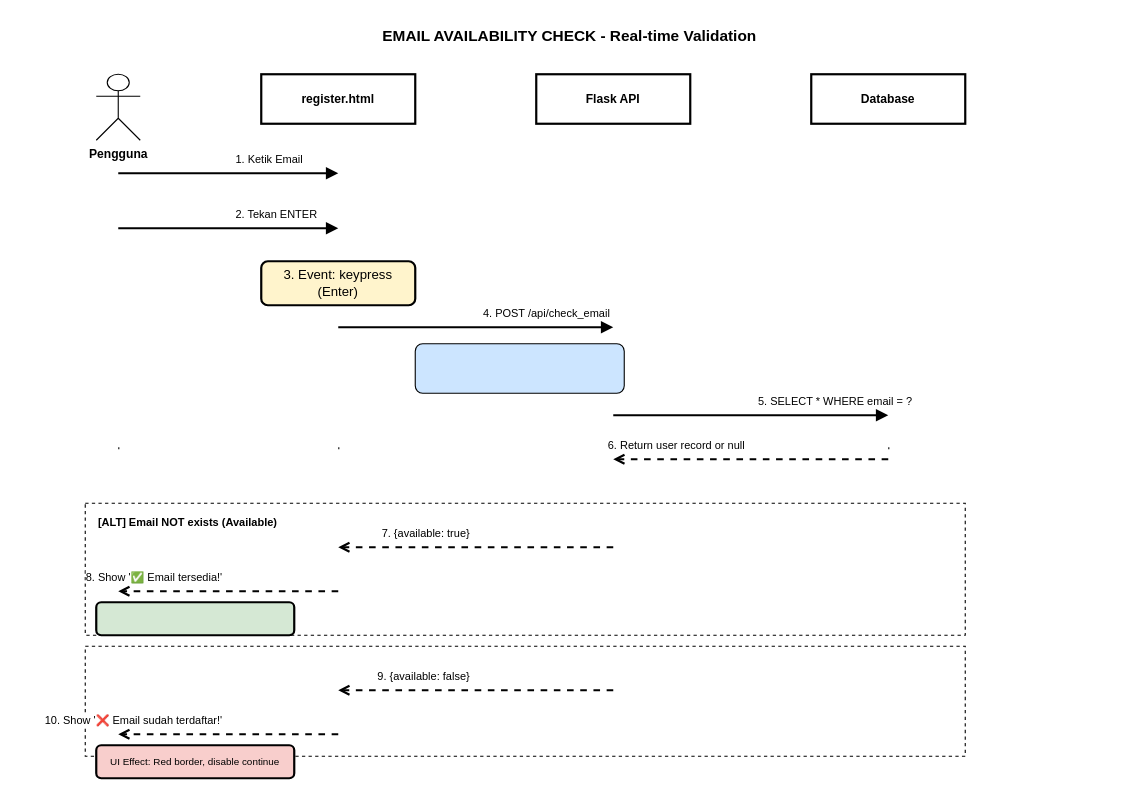
The diagram is 1137 pixels wide and 798 high, and some of its shapes have lost their labels. The centre of each missing label's shape, as x and y in pixels:
"[ELSE] Email EXISTS (Taken)" goes at (x=524, y=700).
"Payload: {email: 'user@example.com'}" goes at (x=519, y=368).
"UI Effect: Green border, enable continue" goes at (x=195, y=618).
